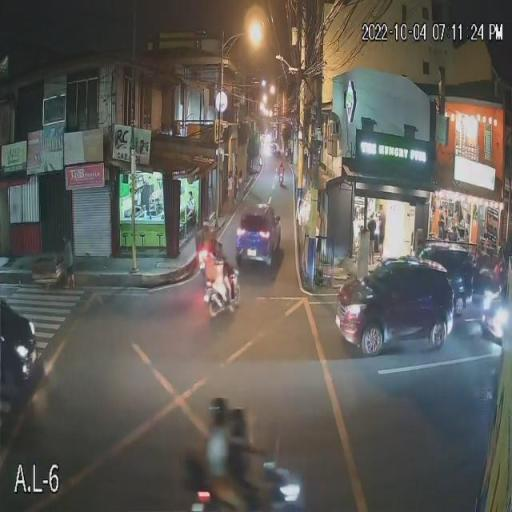helmet: (227, 406, 252, 433), (210, 390, 230, 422), (204, 236, 233, 254)
motorcycle: (186, 444, 317, 512), (204, 266, 256, 323)
rider: (228, 432, 288, 512), (200, 422, 247, 512), (212, 257, 236, 304)
